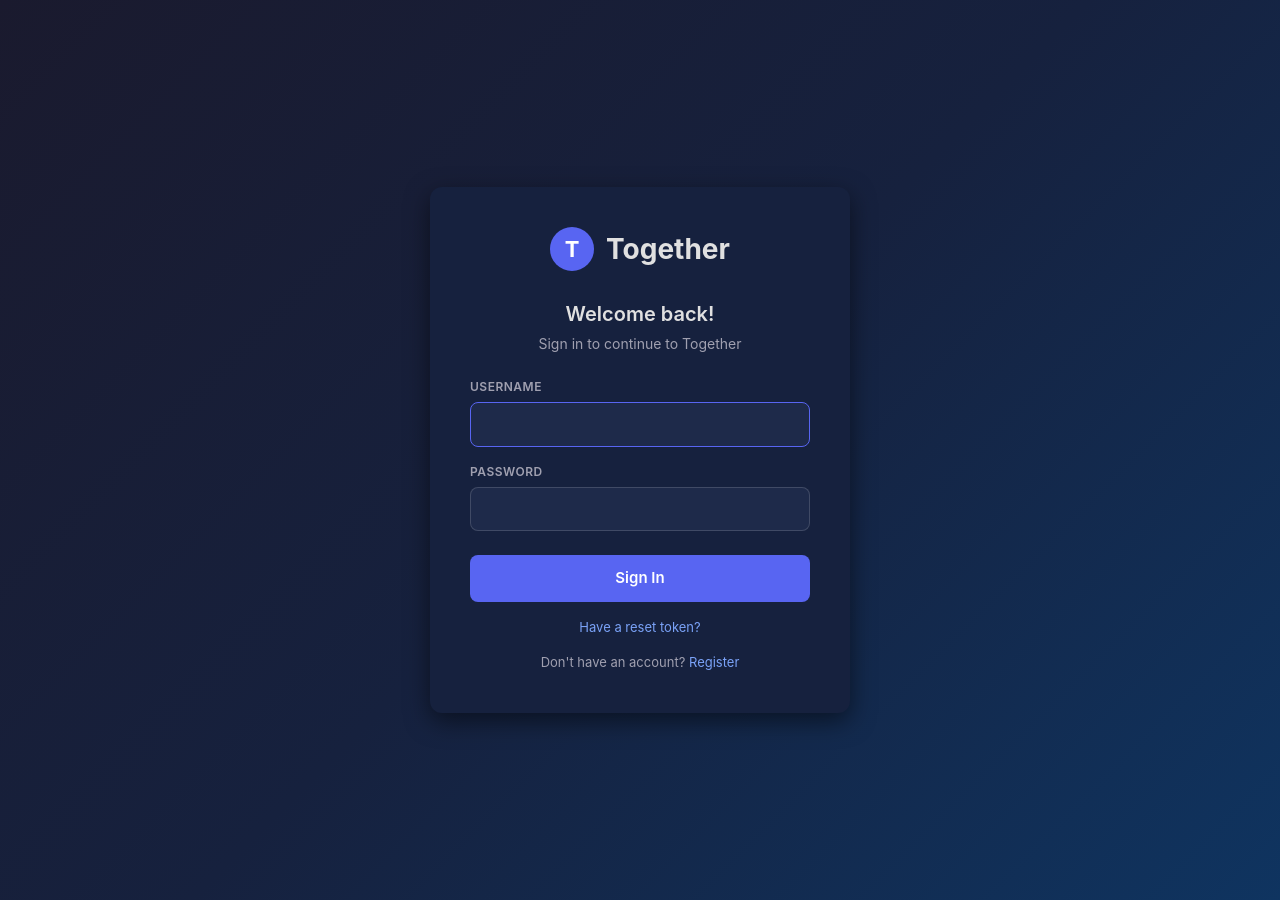
Scenario: AuthForm › switches to register form when toggle is clicked
Click the button "Register" at (714, 663), box [689, 653, 739, 673]
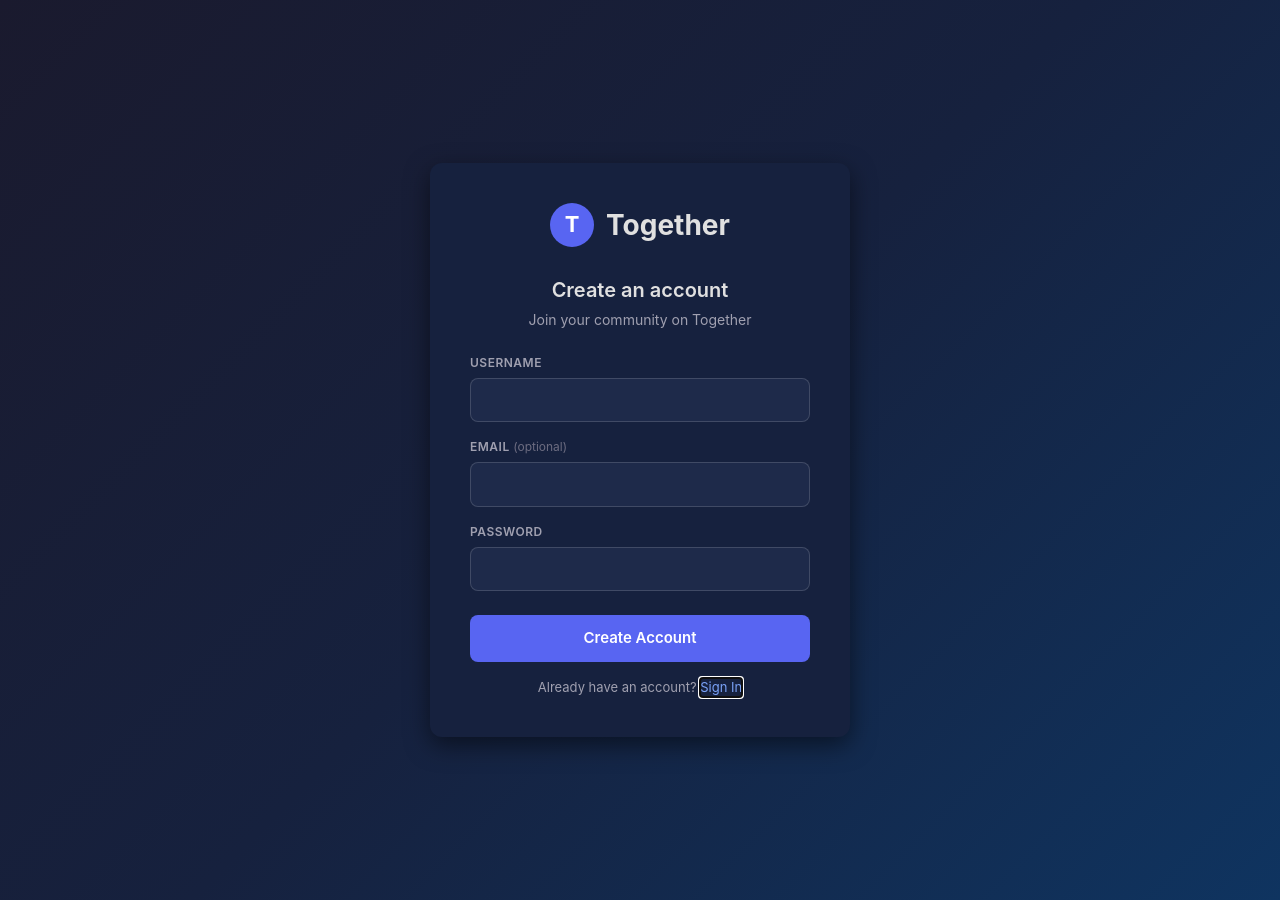
Check: the heading "Create an account" is shown, box [552, 278, 728, 302]
Check: the button "Create Account" is shown, box [470, 615, 810, 662]
